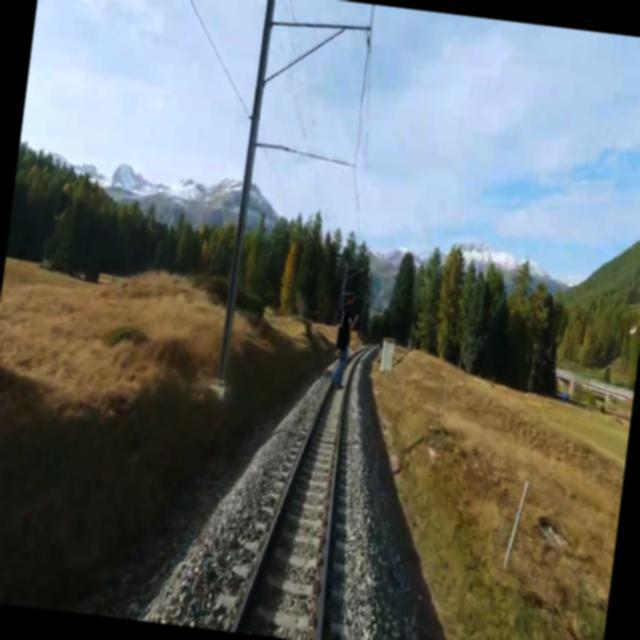rail: (192, 340, 381, 638)
